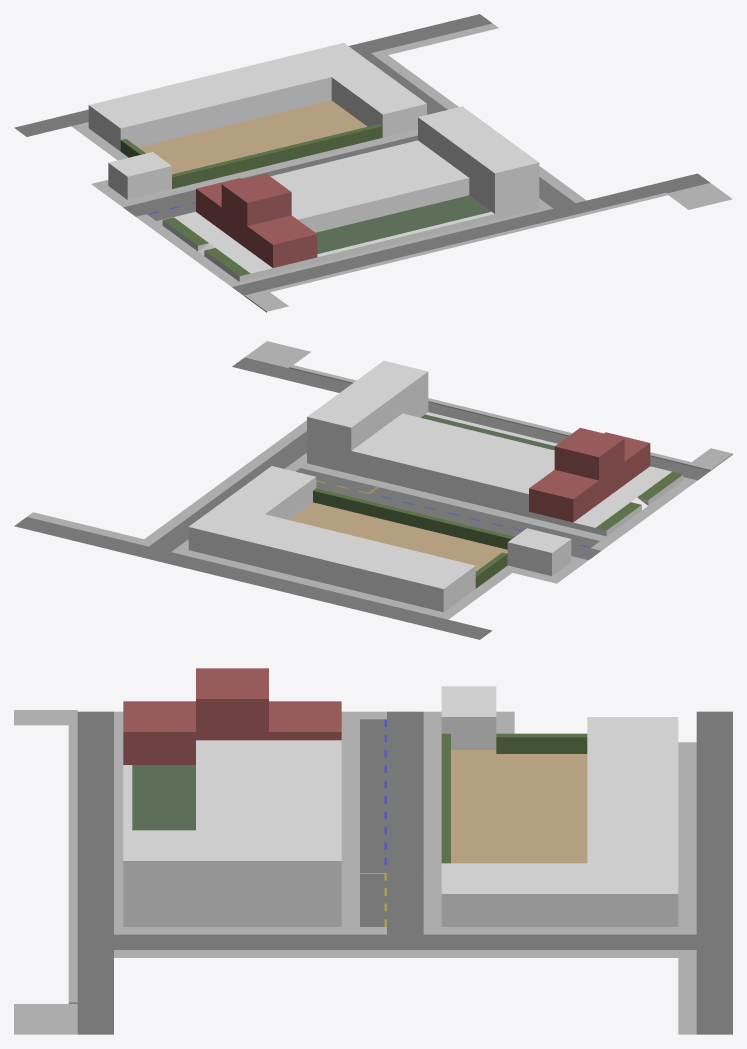
Rendered from hospital.glb.
3 views of the same model, one above another, from view 1: azimuth 30°, elevation 25°; view 2: azimuth 150°, elevation 25°; view 3: azimuth 270°, elevation 25° (orthographic). The views are drawn at different scales.
Visible parts, largest first — view 1: Kindergarten, Hospital, Plane, Casa, Sidewalk; view 2: Kindergarten, Hospital, Plane, Sidewalk, Casa; view 3: Kindergarten, Plane, Hospital, Sidewalk, Casa.
Part boxes in pixels (bbox=[...]): Kindergarten: bbox=[88, 43, 426, 199]; Hospital: bbox=[270, 106, 539, 262]; Plane: bbox=[14, 14, 710, 296]; Casa: bbox=[162, 173, 317, 281]; Sidewalk: bbox=[71, 23, 732, 312]; Kindergarten: bbox=[188, 466, 571, 612]; Hospital: bbox=[307, 360, 557, 517]; Plane: bbox=[14, 357, 710, 639]; Sidewalk: bbox=[27, 341, 732, 619]; Casa: bbox=[529, 427, 683, 536]; Kindergarten: bbox=[441, 686, 678, 926]; Plane: bbox=[77, 711, 732, 1034]; Hospital: bbox=[123, 740, 341, 926]; Sidewalk: bbox=[14, 710, 696, 1034]; Casa: bbox=[123, 668, 341, 764].
Size of what is drawn, in the model's own units: 84 by 9 by 79.
Materials: 11 (1 with a texture image).
